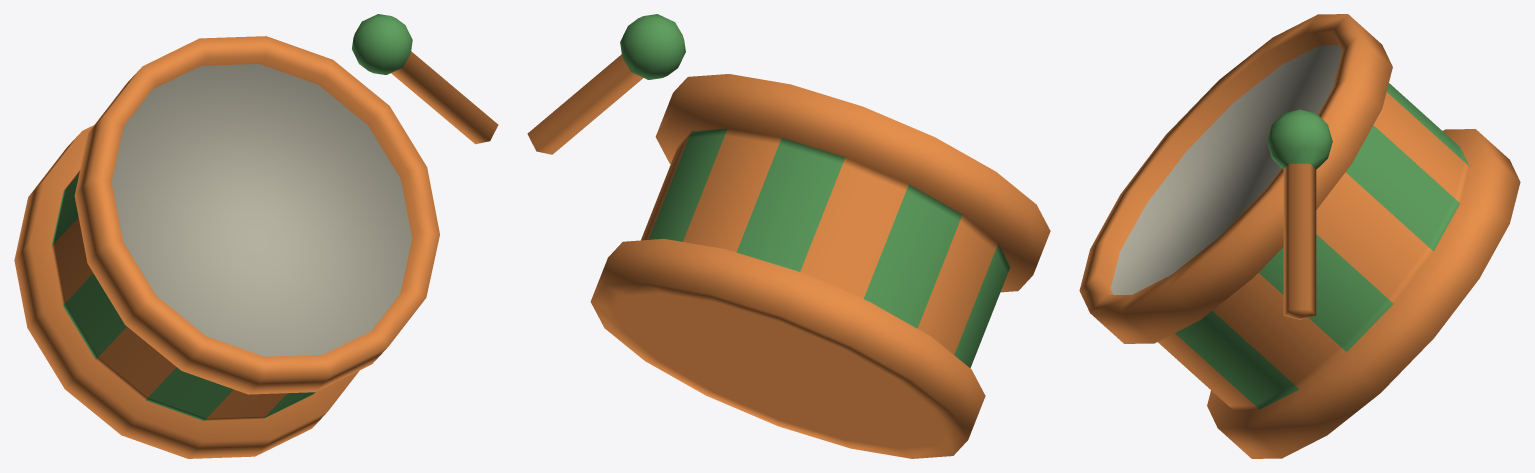
Rendered from ZabumbaModel.glb.
3 views of the same model, side by side, from view 1: azimuth 30°, elevation 25°; view 2: azimuth 150°, elevation 25°; view 3: azimuth 270°, elevation 25° (orthographic). The views are drawn at different scales.
Parts seen in each view (by area): view 1: BaquetaZabumba; view 2: BaquetaZabumba; view 3: BaquetaZabumba.
Part boxes in pixels (x1,y1,x2,y2): BaquetaZabumba: [14, 14, 498, 458]; BaquetaZabumba: [527, 14, 1050, 458]; BaquetaZabumba: [1079, 14, 1520, 458].
Bounding box in the file's own units: 1.39 × 1.19 × 1.17.
